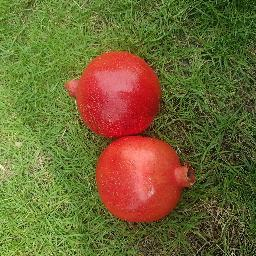Good_pomegranate: (87, 141, 193, 224), (61, 56, 170, 136)
